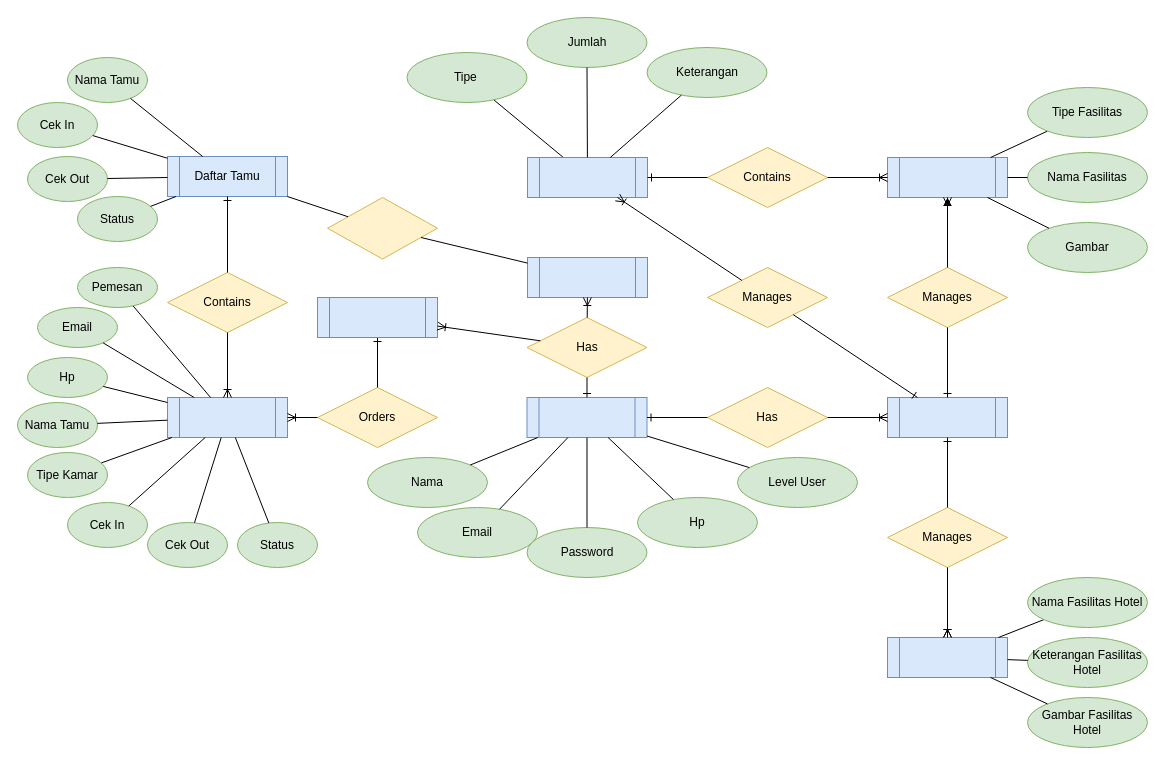
This 1165x765 diagram has some shape labels left out. The box of each missing label's shape, as (x1, y1, x2, y2) in pixels:
Administrator: (886, 396, 1008, 438)
Fasilitas Hotel: (886, 636, 1008, 678)
Fasilitas Kamar: (886, 156, 1008, 198)
Kamar: (526, 156, 648, 198)
Pesanan: (166, 396, 288, 438)
Processes: (326, 196, 438, 259)
User: (526, 396, 647, 438)
User Resepsionis: (526, 256, 648, 298)
User Tamu: (316, 296, 438, 338)
